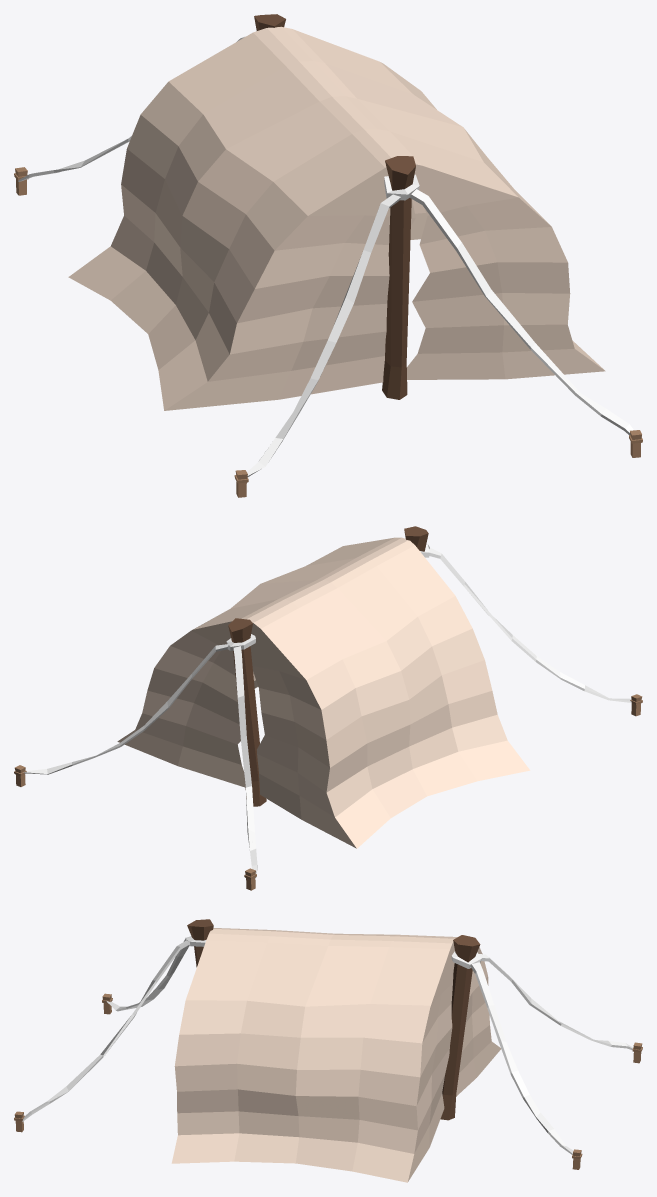
The model's file is Tant_1.fbx.
3 views of the same model, one above another, from view 1: azimuth 30°, elevation 25°; view 2: azimuth 150°, elevation 25°; view 3: azimuth 270°, elevation 25° (orthographic). The views are drawn at different scales.
Visible parts, largest first — view 1: M_Tant 1; view 2: M_Tant 1; view 3: M_Tant 1.
Boxes of the visible parts, x1,y1,x2,y2 form: M_Tant 1: (14, 14, 642, 497); M_Tant 1: (14, 526, 642, 890); M_Tant 1: (14, 919, 642, 1182).
Size of the model in its own units: 126 by 59.59 by 189.
Materials: 1 (1 with a texture image).
